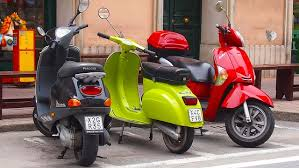bike: (149, 4, 287, 143), (28, 7, 112, 156), (117, 16, 205, 124)
